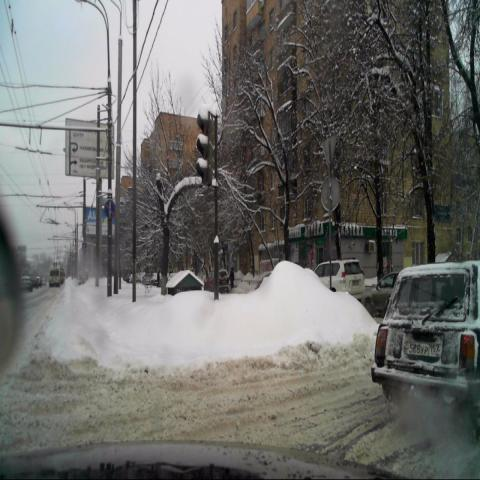3_29: (104, 199, 116, 221)
